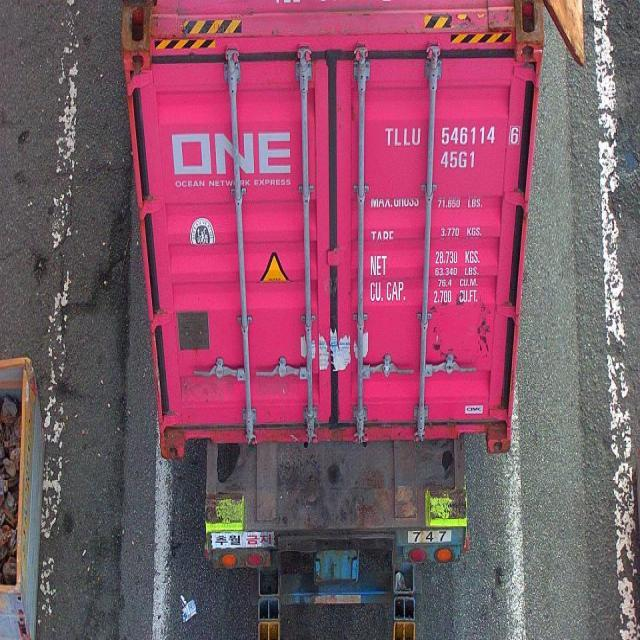ISO: (440, 150, 478, 169)
container_number: (383, 125, 516, 148)
